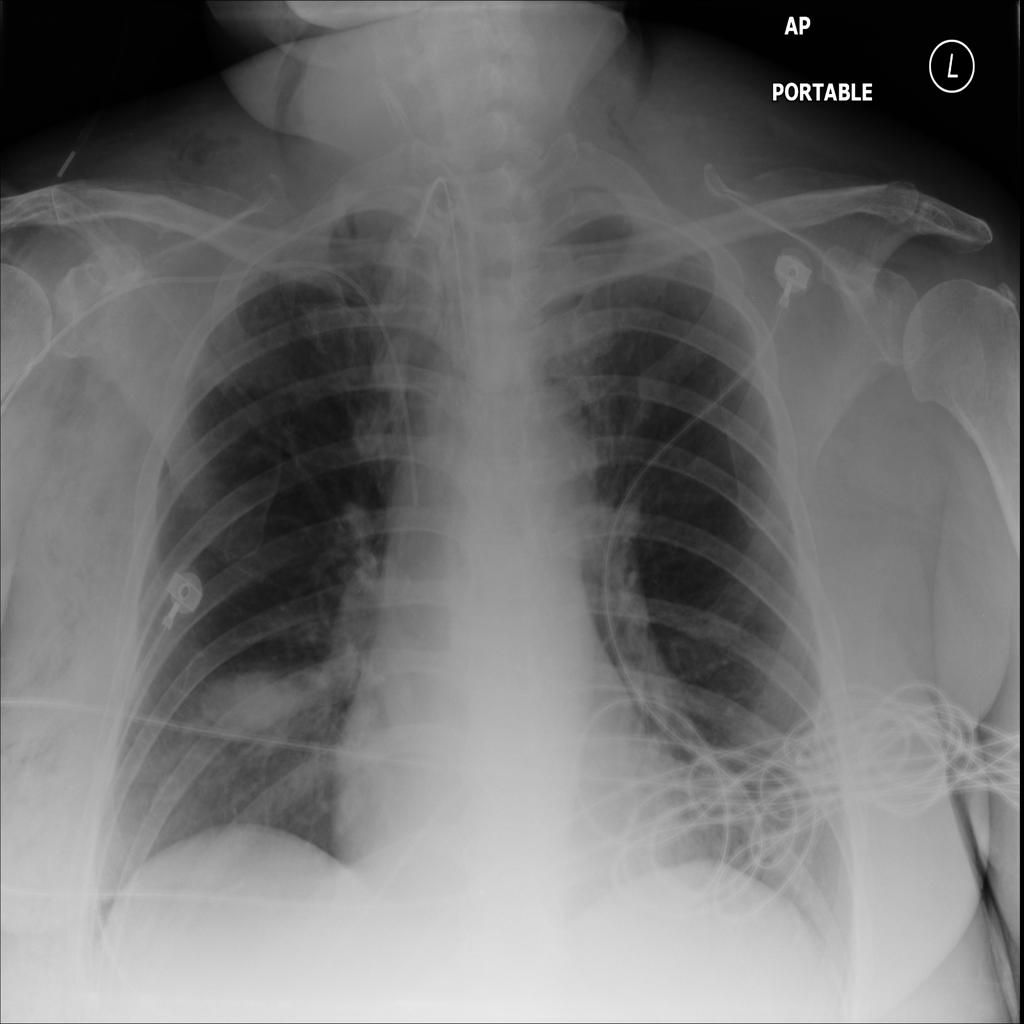nodule: (191, 651, 326, 761)
